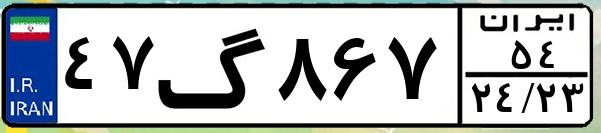2: (470, 70, 495, 125), (535, 70, 560, 125)
3: (560, 70, 590, 125)
4: (57, 26, 110, 100), (537, 27, 568, 80), (495, 70, 520, 125)
5: (508, 27, 537, 80)
6: (330, 28, 385, 110)
7: (385, 28, 445, 110), (110, 28, 156, 98)
8: (270, 28, 330, 110)
گ: (156, 12, 270, 120)
